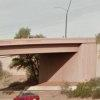Bridge: (2, 34, 97, 67)
